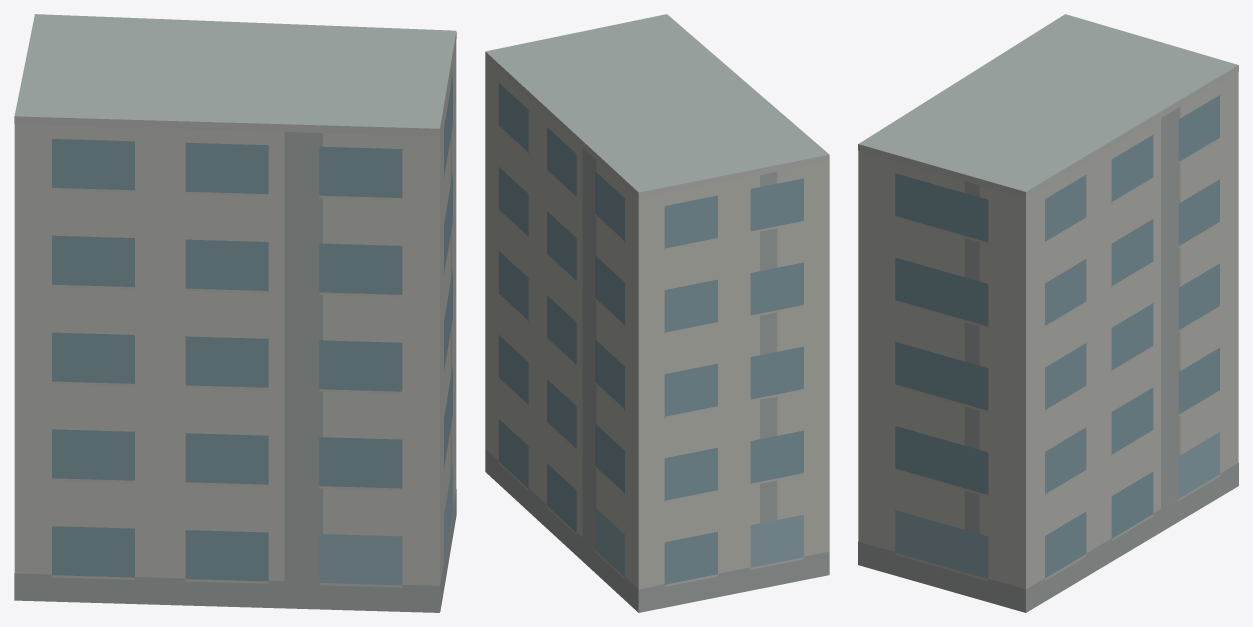
The model's file is survey-upis-32835745.glb.
3 views of the same model, side by side, from view 1: azimuth 30°, elevation 25°; view 2: azimuth 150°, elevation 25°; view 3: azimuth 270°, elevation 25° (orthographic). The views are drawn at different scales.
Visible parts, largest first — view 1: survey-upis-32835745.tmp; view 2: survey-upis-32835745.tmp; view 3: survey-upis-32835745.tmp.
Part boxes in pixels (left/top/right/bottom): survey-upis-32835745.tmp: left=14, top=14, right=456, bottom=612; survey-upis-32835745.tmp: left=485, top=14, right=829, bottom=612; survey-upis-32835745.tmp: left=858, top=14, right=1238, bottom=612.
Size of the model in its own units: 13.83 by 15.25 by 12.5.
